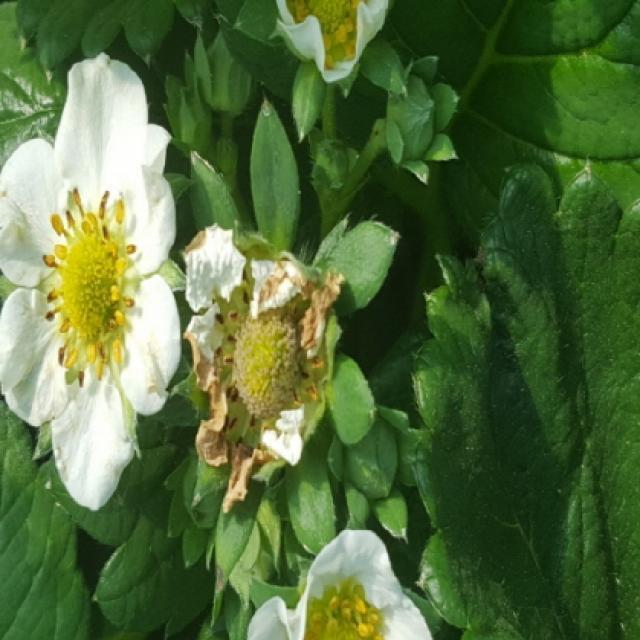Blossom Blight: (209, 262, 325, 457), (39, 186, 140, 393)
